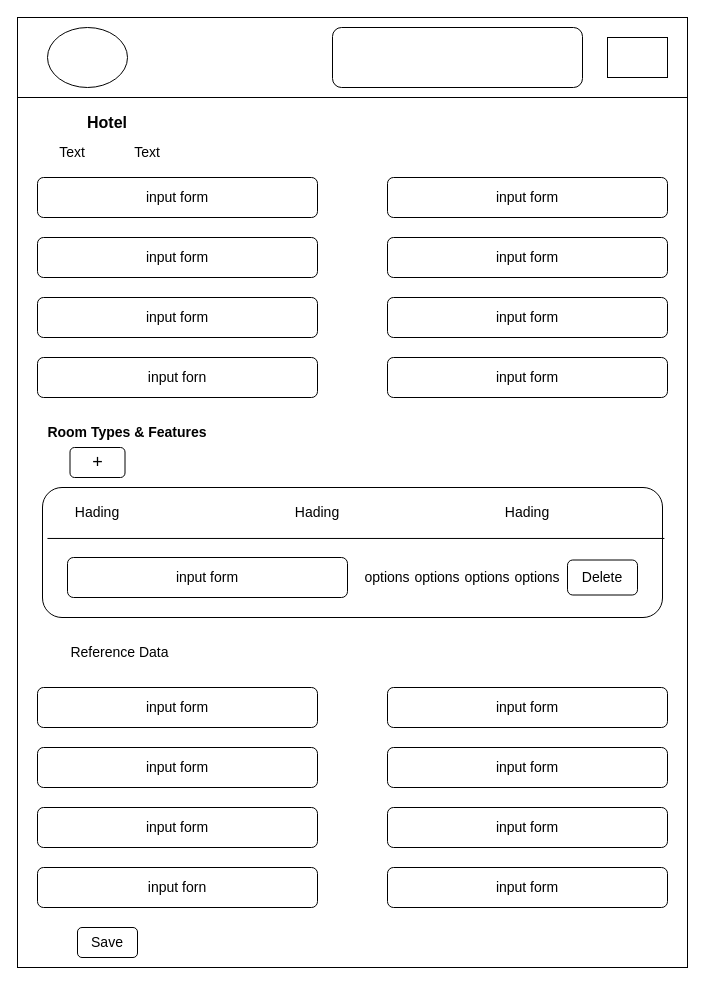
The diagram is 705 pixels wide and 985 high, and some of its shapes have lost their labels. Here are the shapes that lost their labels. From the top down, the centre of each, then its label:
the point at 87,57: Logo
the point at 457,57: Nav Links
the point at 637,57: Signout
